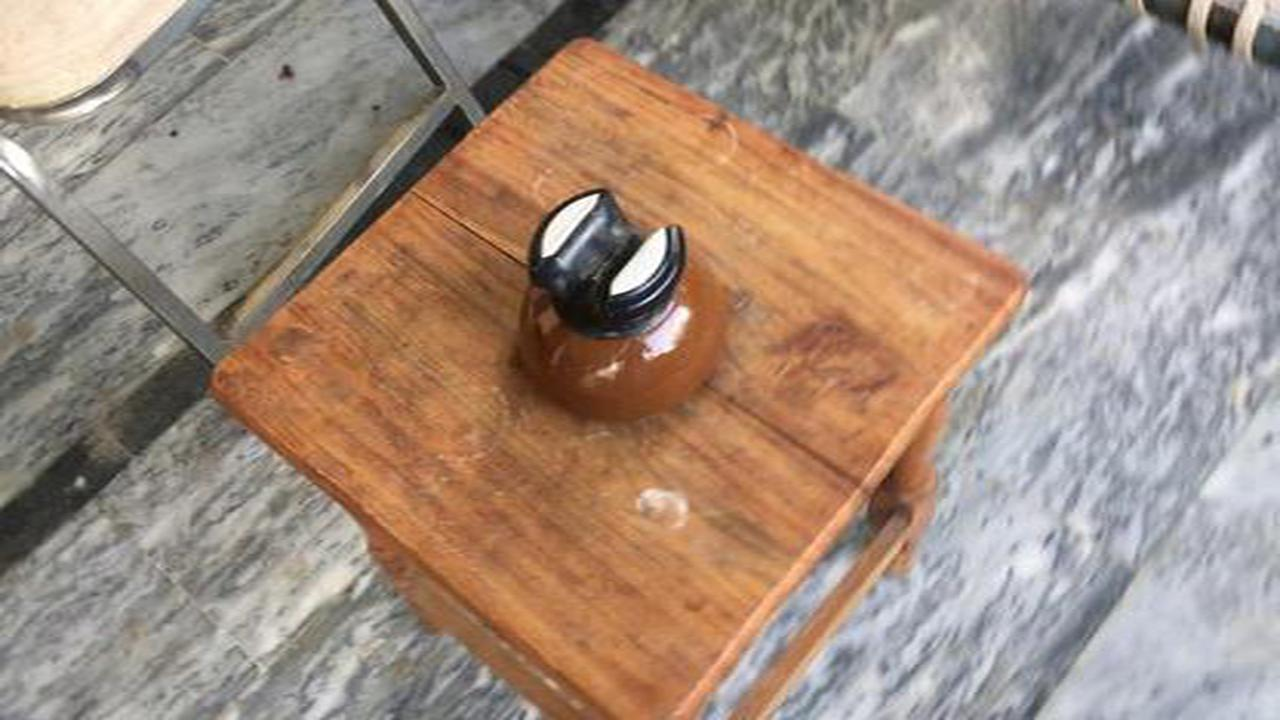insulator_pin: (484, 167, 748, 433)
